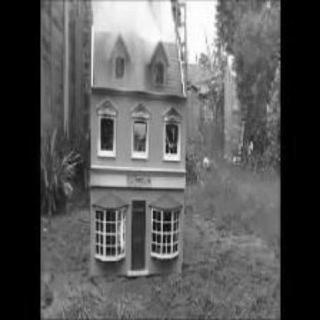Smoke: (91, 5, 145, 84)
